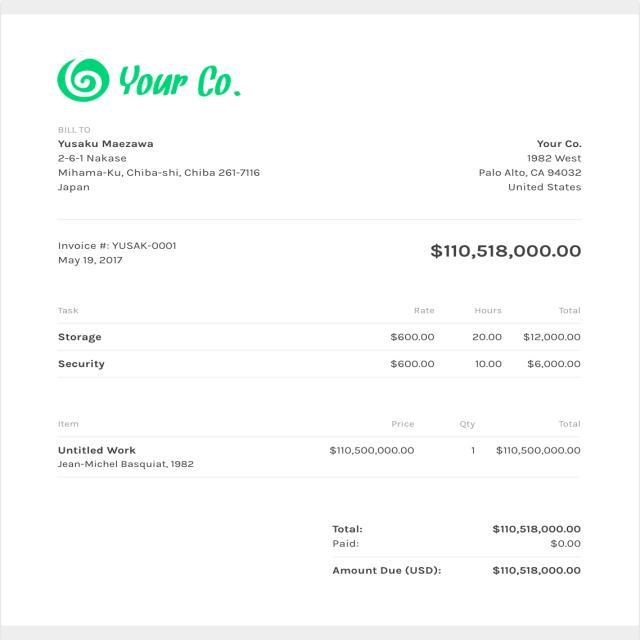ROI: (42, 300, 595, 386), (50, 413, 605, 480), (43, 123, 273, 202), (470, 130, 596, 199), (328, 519, 587, 551), (117, 56, 245, 105), (50, 234, 189, 277), (330, 562, 587, 579), (423, 237, 592, 261)
